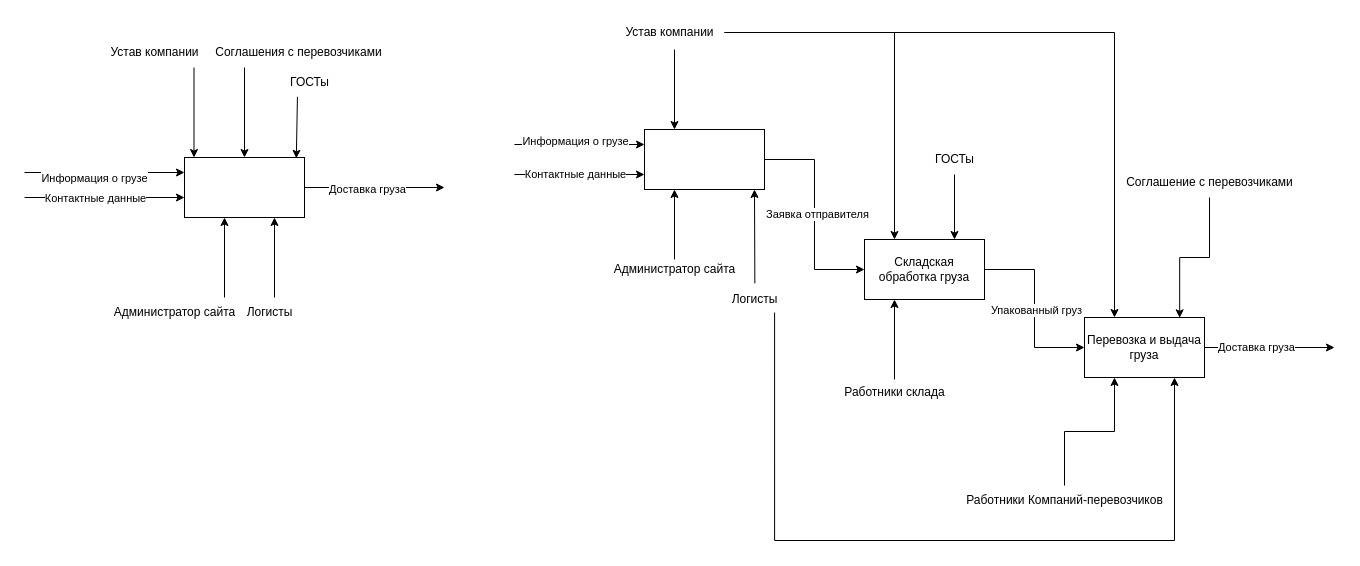
The diagram is 1360 pixels wide and 566 high, and some of its shapes have lost their labels. Here are the shapes that lost their labels. From the top down, the box of each, then its label:
(644, 128, 764, 190): Обработка информации о грузе
(184, 156, 304, 218): Обработка информации о заявке
